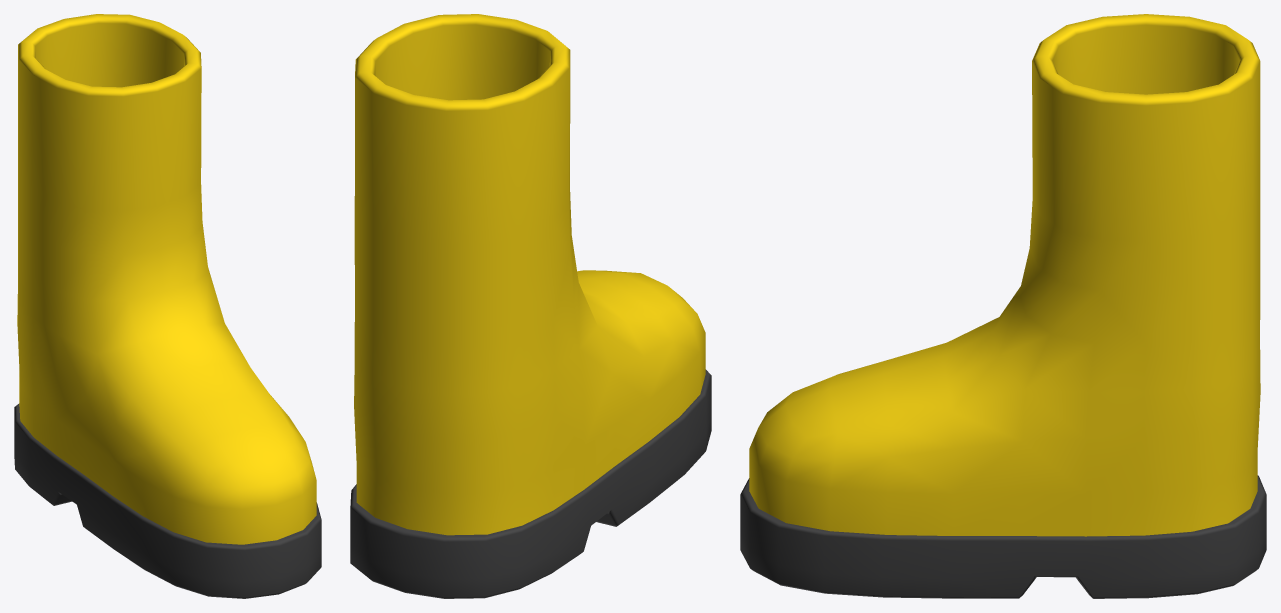
Rendered from Farm_11_Boot_2.glb.
The picture shows the model from 3 angles, left to right: view 1: azimuth 30°, elevation 25°; view 2: azimuth 150°, elevation 25°; view 3: azimuth 270°, elevation 25°; orthographic projection. The views are drawn at different scales.
Parts seen in each view (by area): view 1: Farm_11_Boot_2; view 2: Farm_11_Boot_2; view 3: Farm_11_Boot_2.
Boxes of the visible parts, box(x1,y1,x2,y2) form: Farm_11_Boot_2: box(14, 14, 321, 598); Farm_11_Boot_2: box(350, 14, 711, 598); Farm_11_Boot_2: box(740, 14, 1266, 598).
Size of the model in its own units: 0.1563 by 0.3854 by 0.3696.
Materials: 1 (1 with a texture image).
